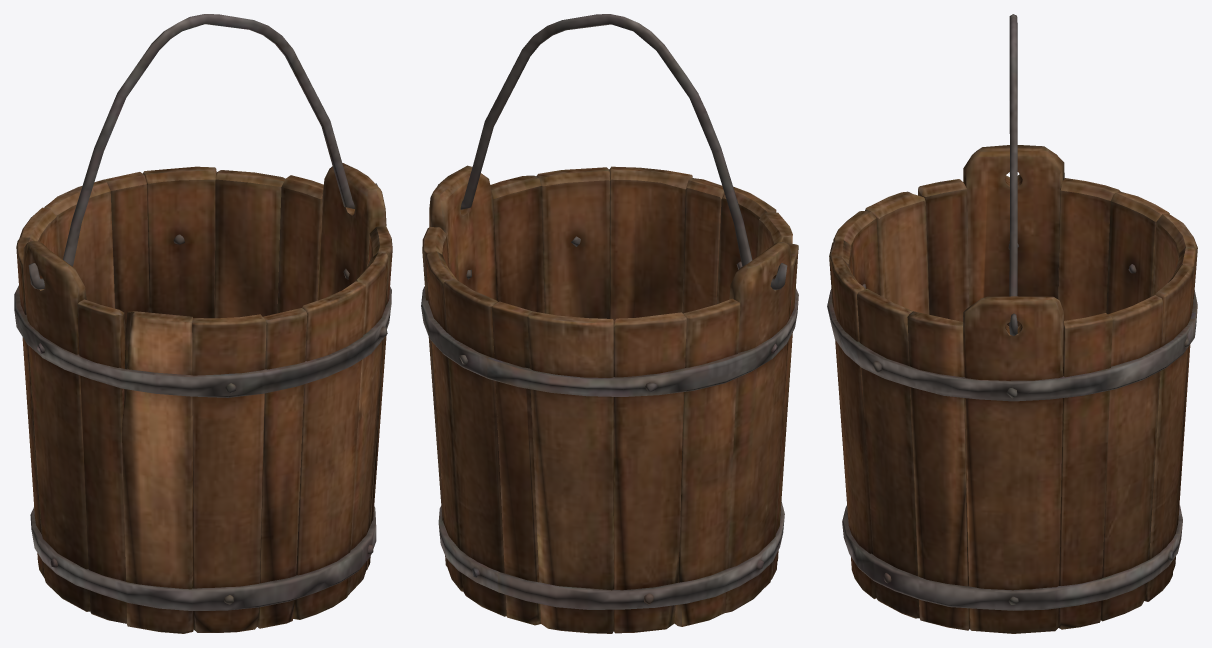
File: bucket.glb
3 views of the same model, side by side, from view 1: azimuth 30°, elevation 25°; view 2: azimuth 150°, elevation 25°; view 3: azimuth 270°, elevation 25° (orthographic).
Parts seen in each view (by area): view 1: wooden_bucket_01; view 2: wooden_bucket_01; view 3: wooden_bucket_01.
Part boxes in pixels (x1,y1,x2,y2): wooden_bucket_01: (14,14,392,633); wooden_bucket_01: (421,14,798,633); wooden_bucket_01: (827,14,1197,633).
Bounding box in the file's own units: 0.3663 × 0.5499 × 0.3419.
Materials: 1 (1 with a texture image).
